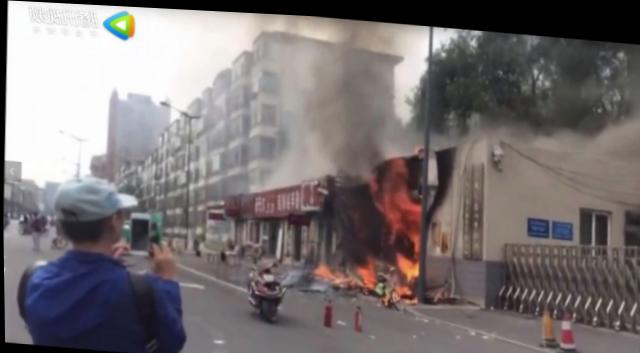fire: (388, 197, 424, 232), (381, 157, 412, 196), (396, 250, 419, 275), (361, 261, 377, 284), (398, 280, 410, 291)
